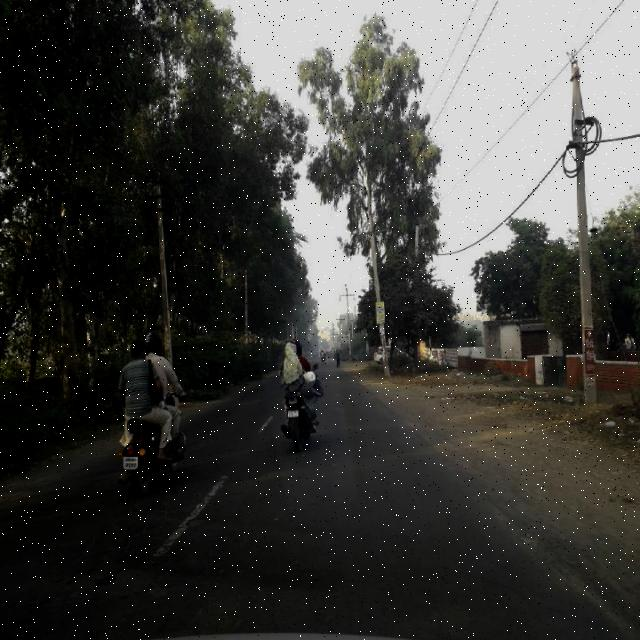D20: (55, 493, 215, 572)
D44: (152, 473, 231, 560)
